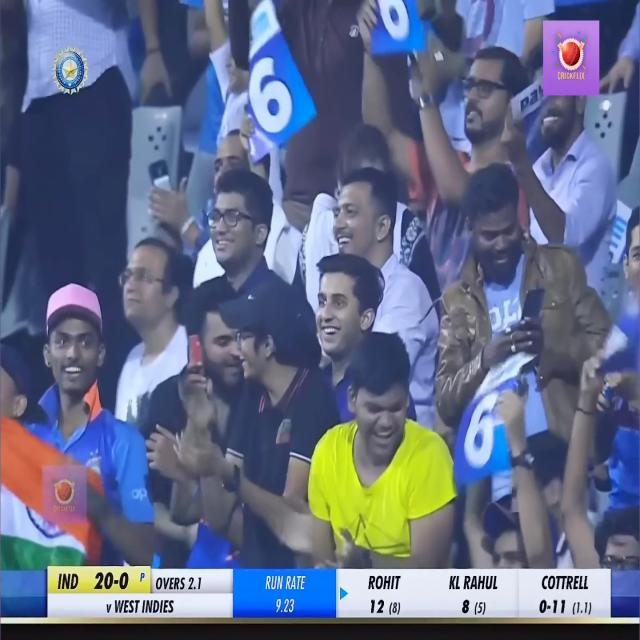partially_visible: (508, 79, 568, 126), (603, 184, 629, 273)
